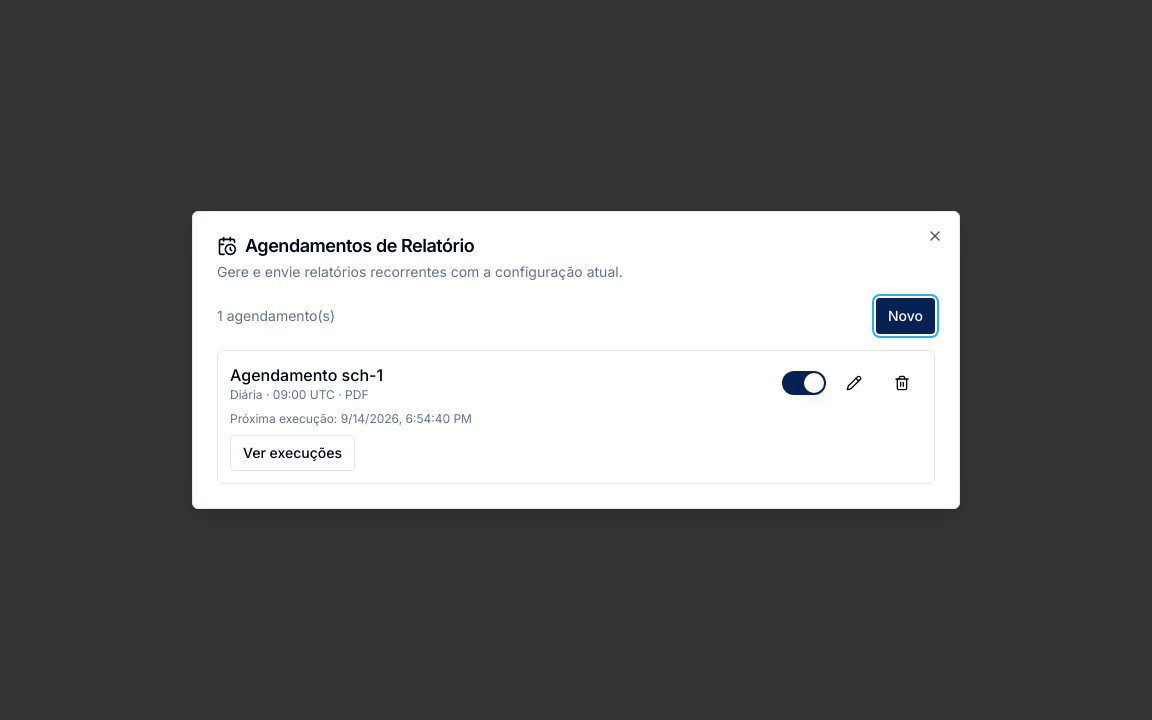
ScheduleList — P7.2 retenção › run não prunado com link ativo mantém botão Baixar
Expected: the text "Agendamento sch-1" is shown, left=230, top=363, right=383, bottom=387
Click the button "Ver execuções".
click(292, 453)  # box left=230, top=435, right=355, bottom=471
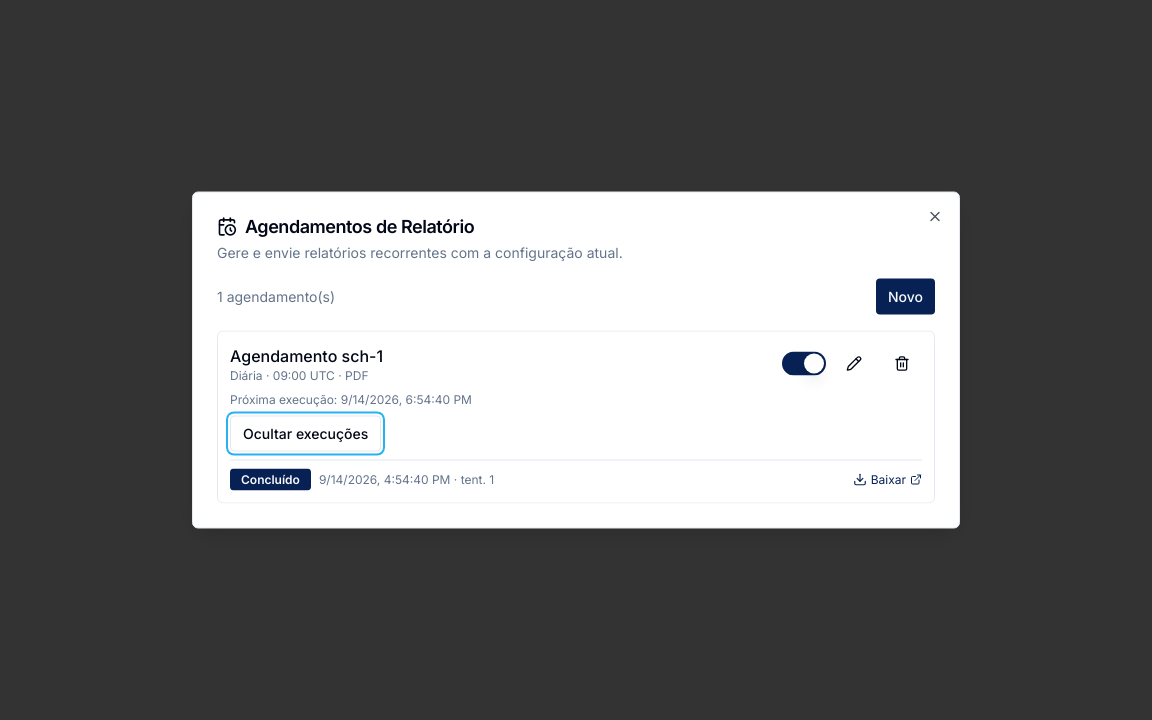
Expected: the link "Baixar" is shown, left=853, top=472, right=922, bottom=488
